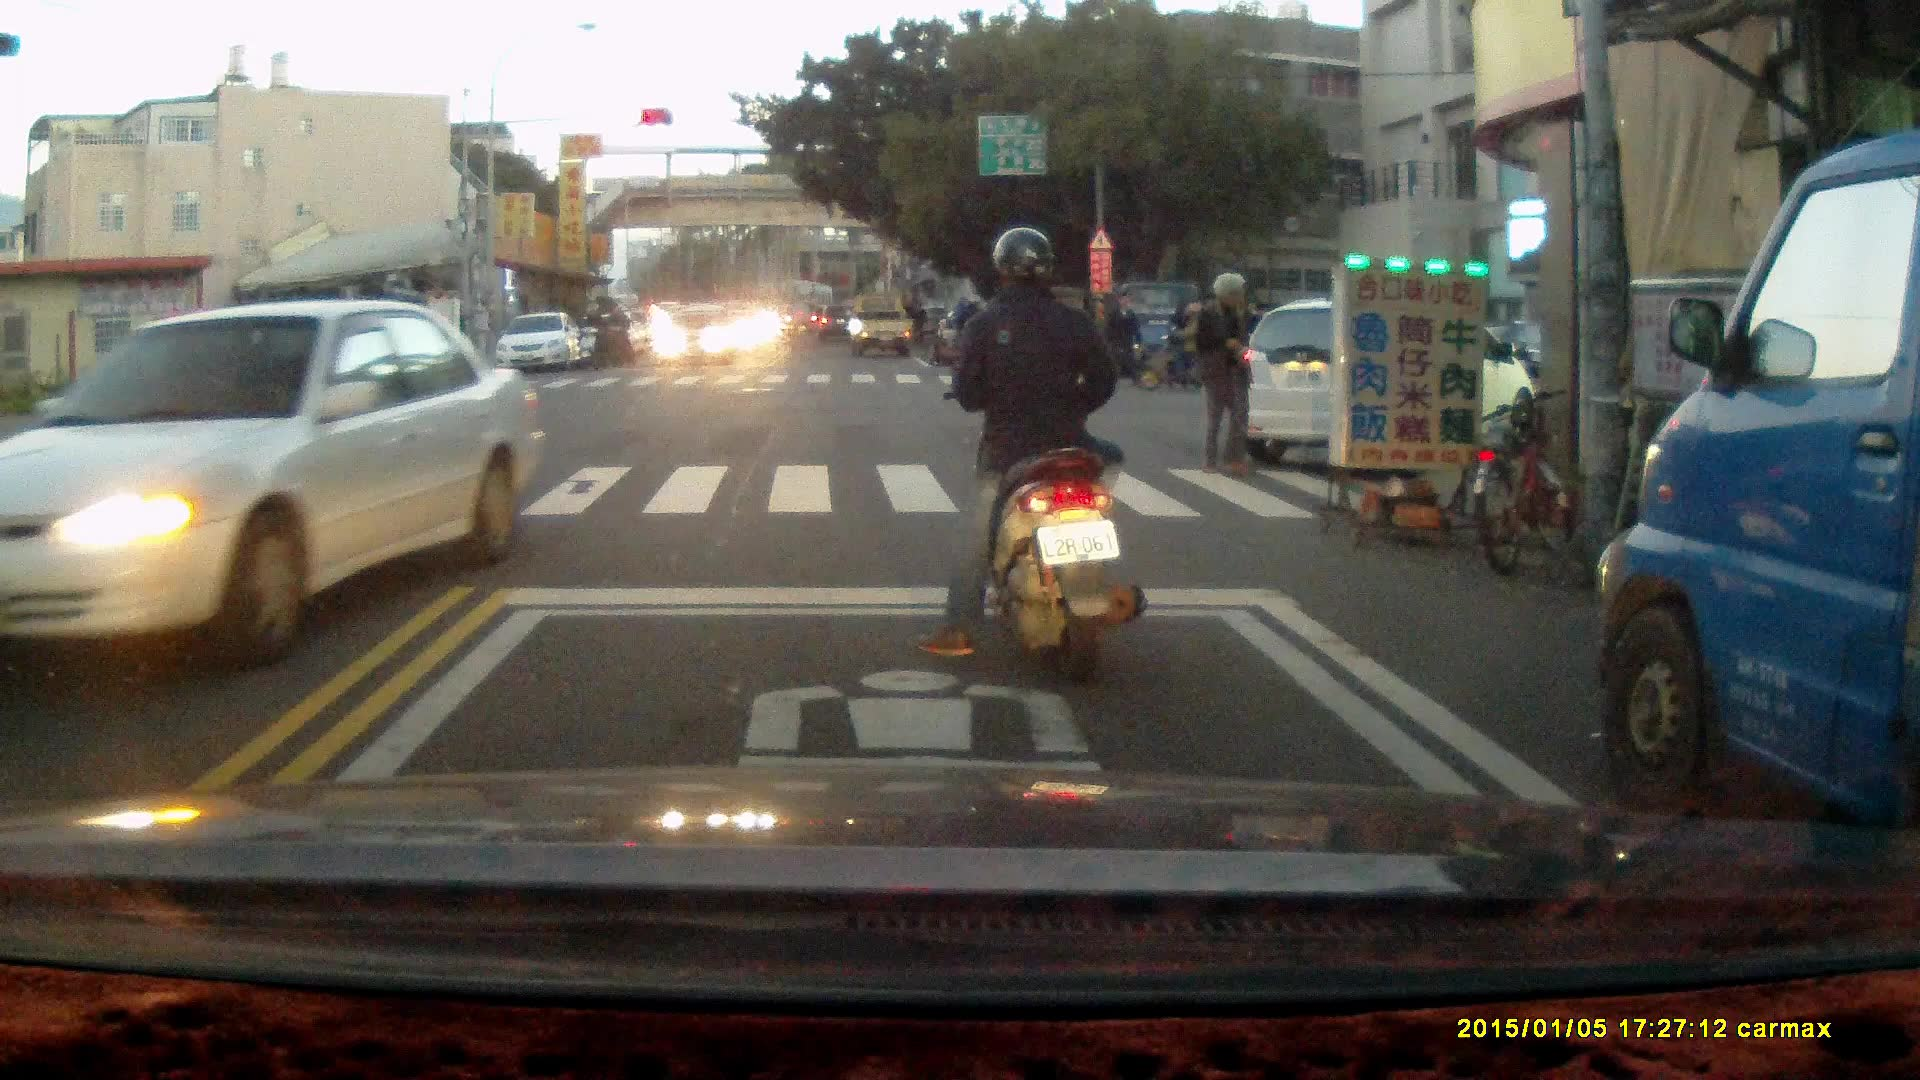pedestrian: (1188, 271, 1258, 475), (1105, 290, 1146, 389)
rider: (918, 227, 1149, 686), (1139, 296, 1216, 393), (594, 300, 631, 368), (577, 301, 612, 372)
vehicle: (1596, 120, 1920, 901), (1, 305, 536, 671), (1236, 303, 1533, 462), (493, 311, 584, 378), (656, 301, 740, 372), (849, 293, 916, 360)
